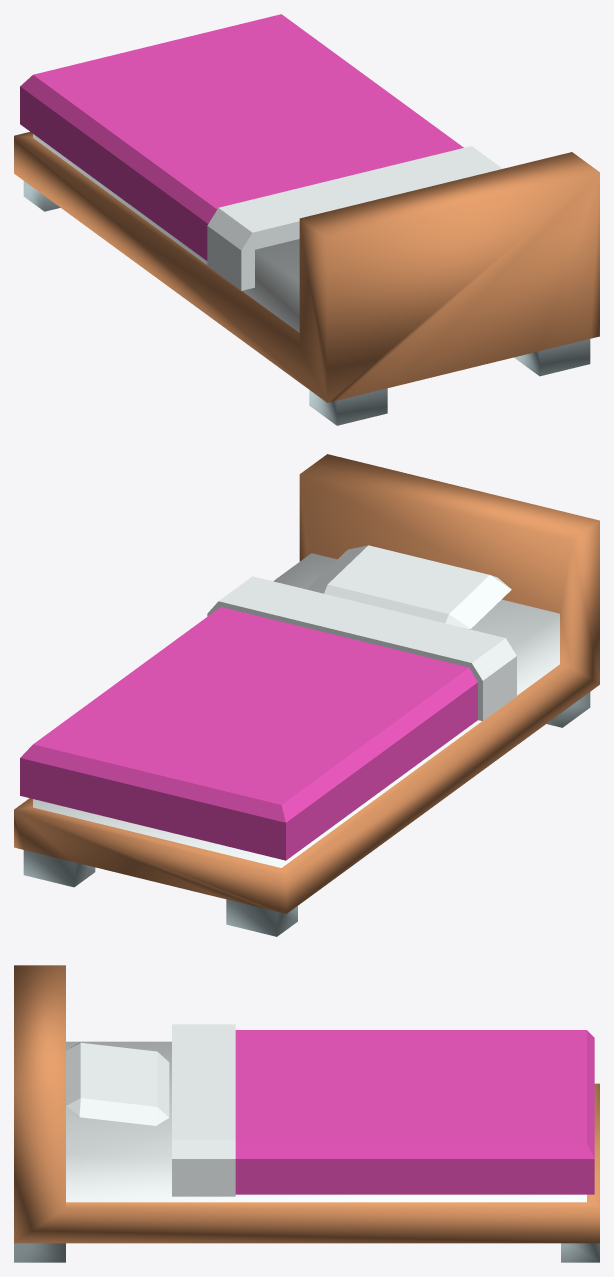
Rendered from bed.glb.
3 renders of one model, top to bottom at view 1: azimuth 30°, elevation 25°; view 2: azimuth 150°, elevation 25°; view 3: azimuth 270°, elevation 25°, orthographic. The views are drawn at different scales.
Visible parts, largest first — view 1: bedSingle; view 2: bedSingle; view 3: bedSingle.
Boxes of the visible parts, x1,y1,x2,y2 form: bedSingle: (14,14,599,425); bedSingle: (14,454,599,936); bedSingle: (14,965,599,1262).
Bounding box in the file's own units: 3.81 × 2.5 × 7.51.
